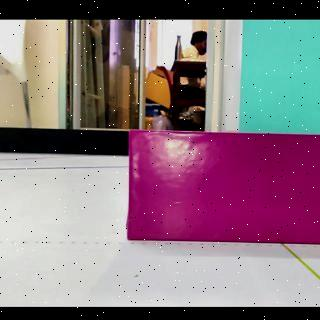xparking: (130, 134, 314, 242)
